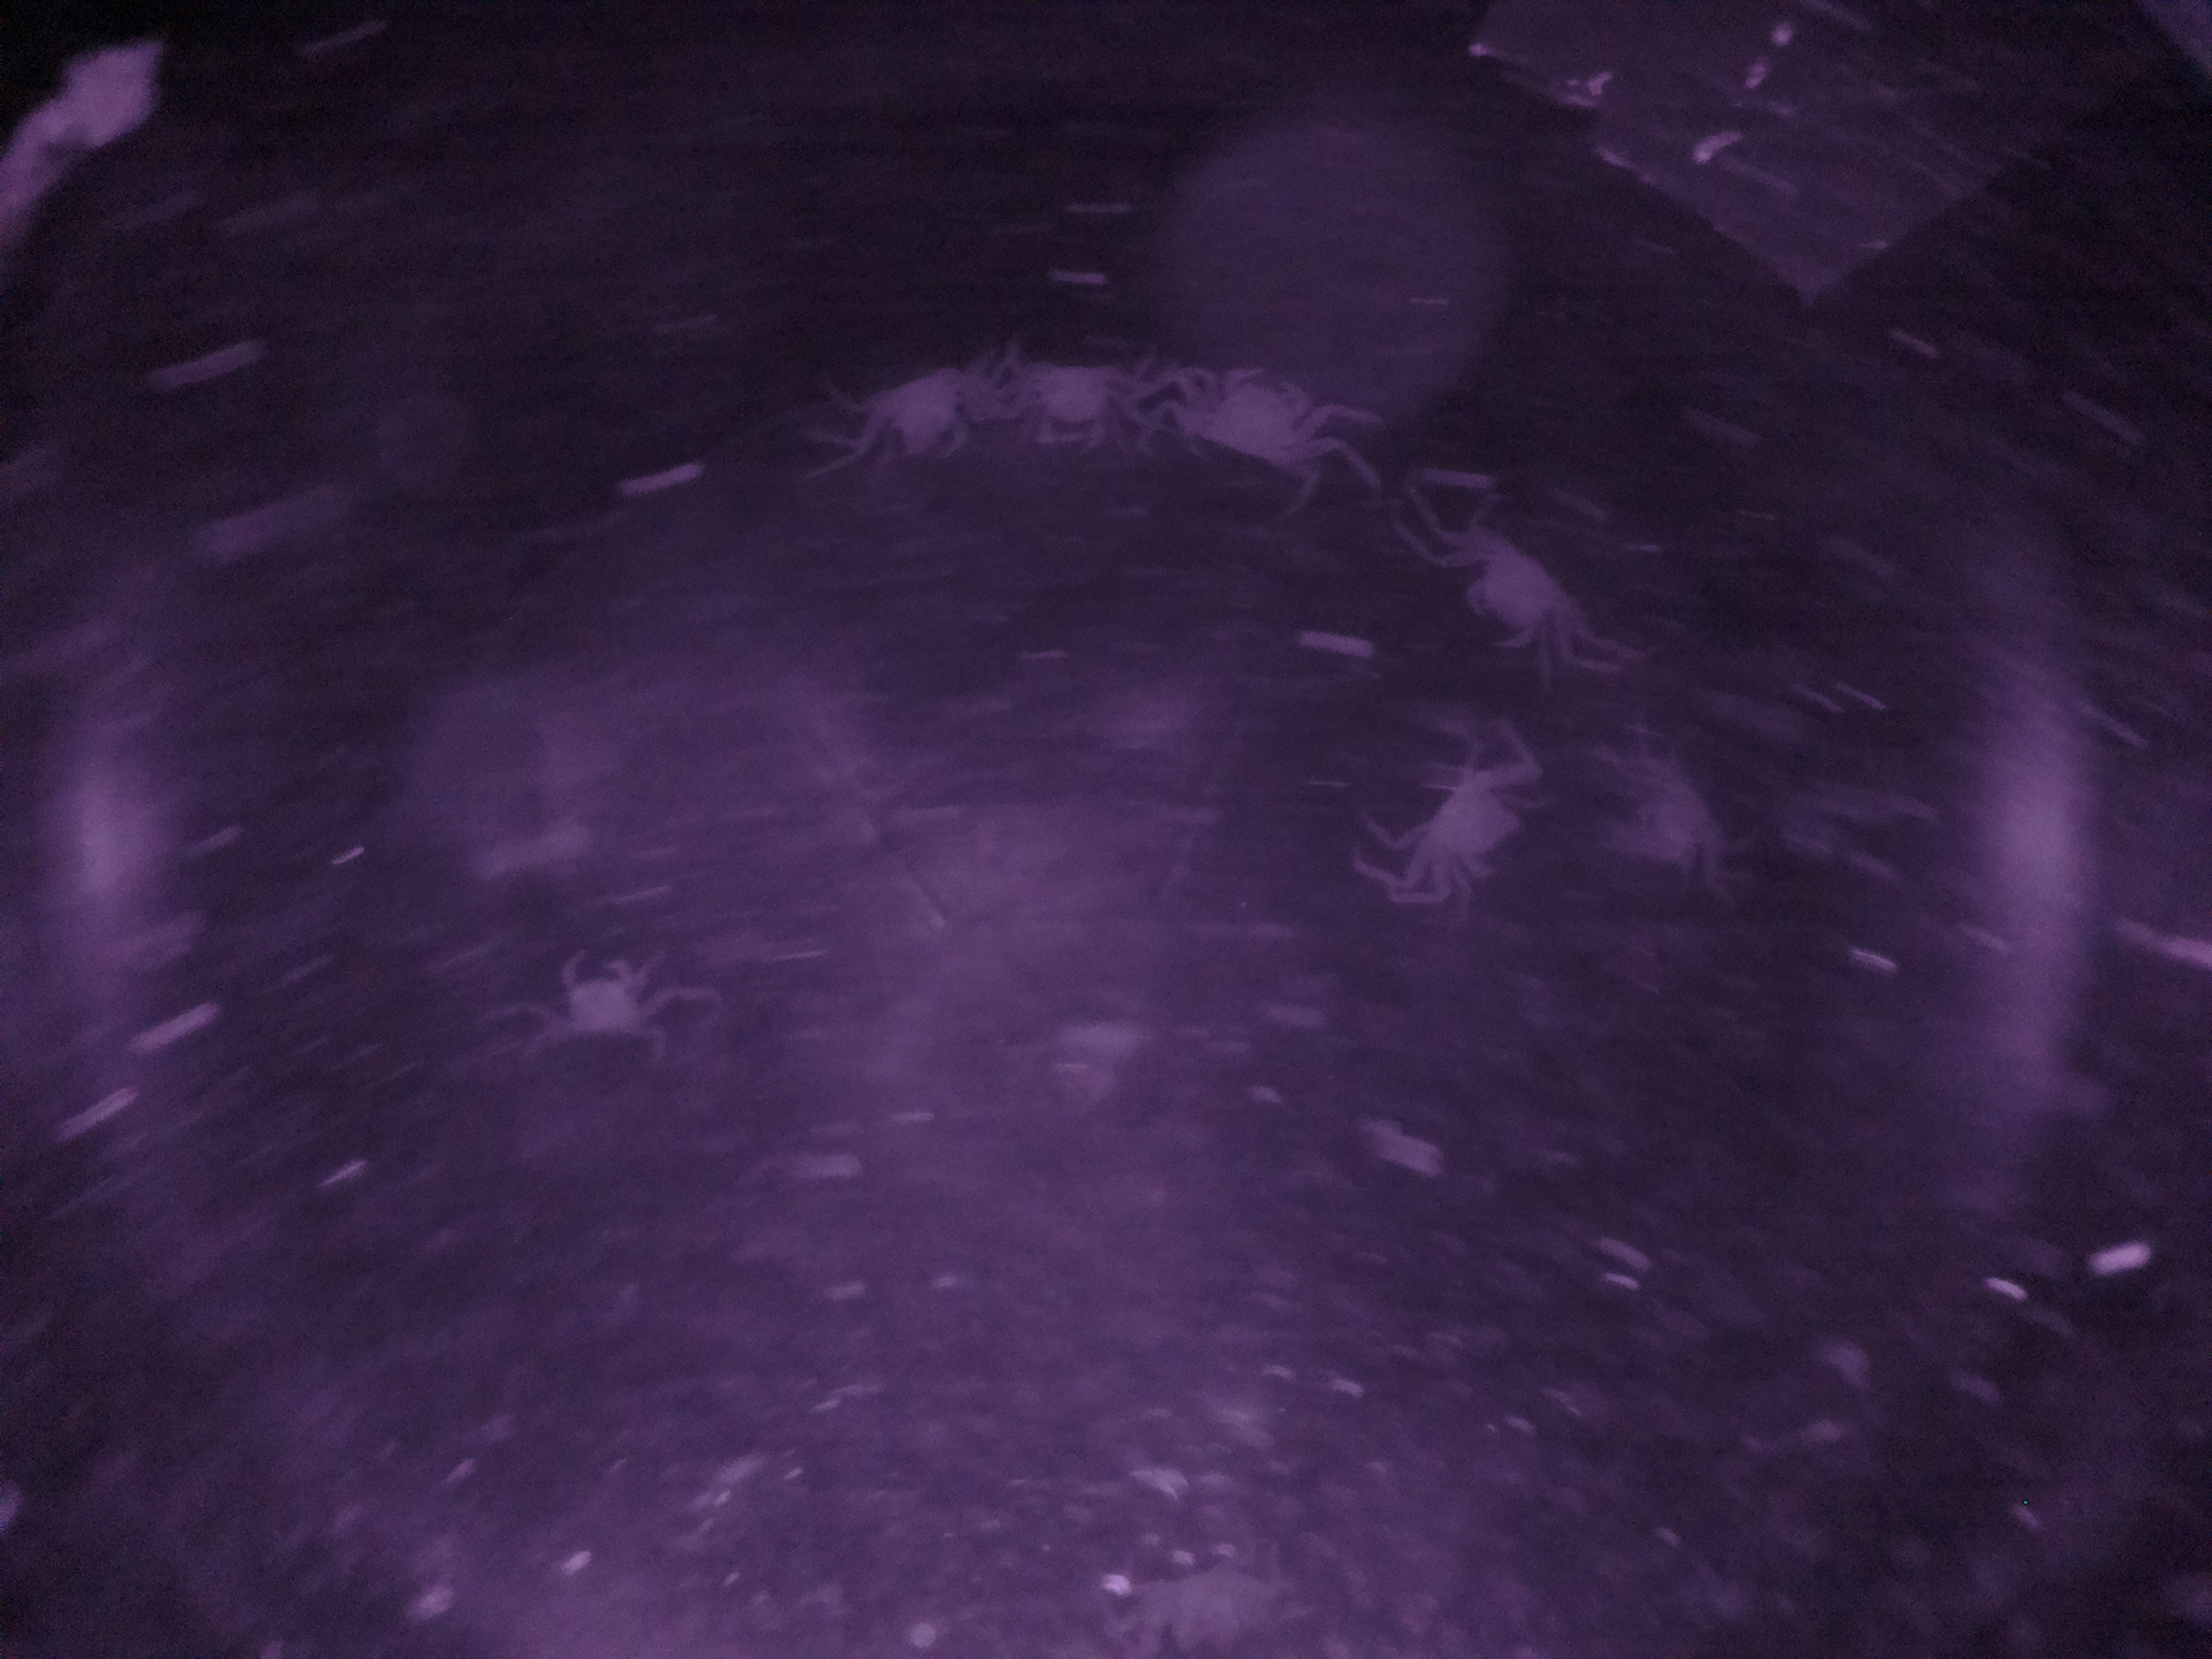Crab: (1355, 720, 1561, 931), (1132, 335, 1378, 505)
